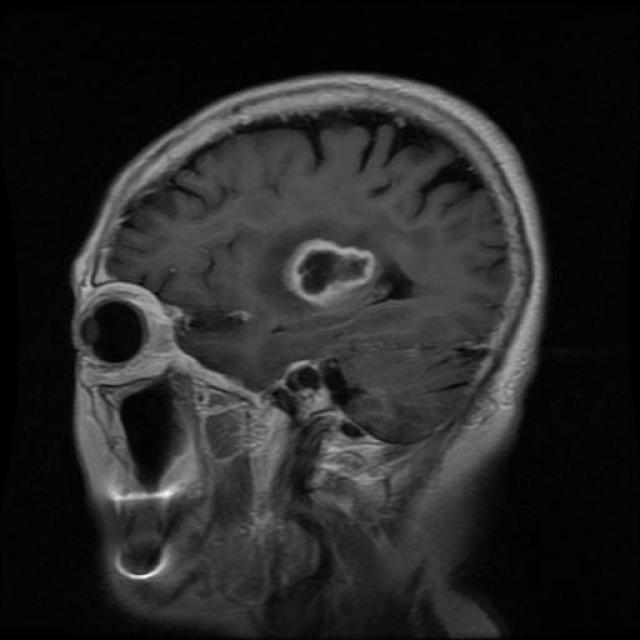glioma_tumor: (258, 211, 426, 326)
